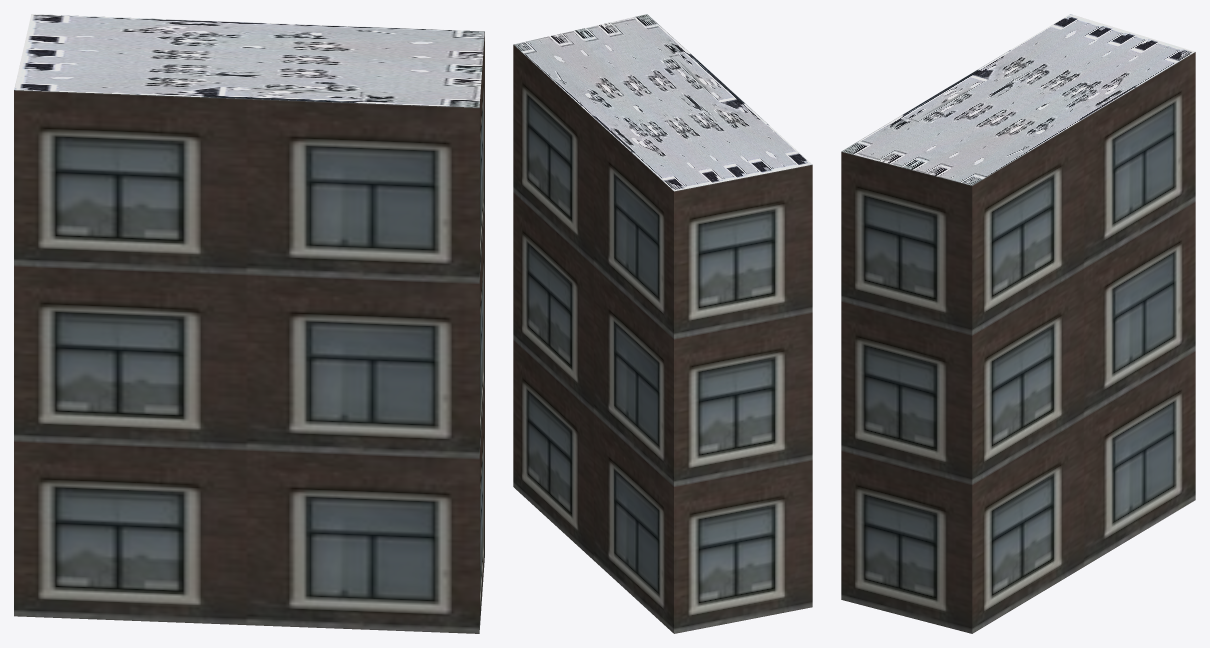
Rendered from ResTex__1070.fbx.
3 views of the same model, side by side, from view 1: azimuth 30°, elevation 25°; view 2: azimuth 150°, elevation 25°; view 3: azimuth 270°, elevation 25° (orthographic). The views are drawn at different scales.
Visible parts, largest first — view 1: CityEngineMaterial_16_m, CityEngineMaterial_15_m; view 2: CityEngineMaterial_16_m, CityEngineMaterial_15_m; view 3: CityEngineMaterial_16_m, CityEngineMaterial_15_m.
Boxes of the visible parts, <box> form: CityEngineMaterial_16_m: <box>14,32,484,633</box>; CityEngineMaterial_15_m: <box>14,14,484,107</box>; CityEngineMaterial_16_m: <box>513,45,812,633</box>; CityEngineMaterial_15_m: <box>513,14,811,191</box>; CityEngineMaterial_16_m: <box>841,52,1195,633</box>; CityEngineMaterial_15_m: <box>841,14,1195,185</box>.
Size of the model in its own units: 7.4 by 9 by 6.45.
2 materials, 2 textured.
